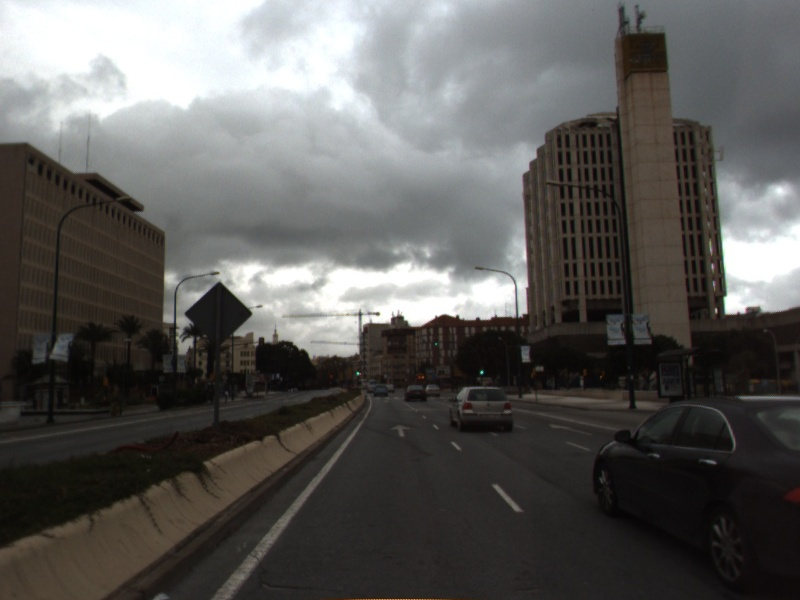STRAIGHT: (546, 421, 596, 438), (388, 422, 414, 439)
